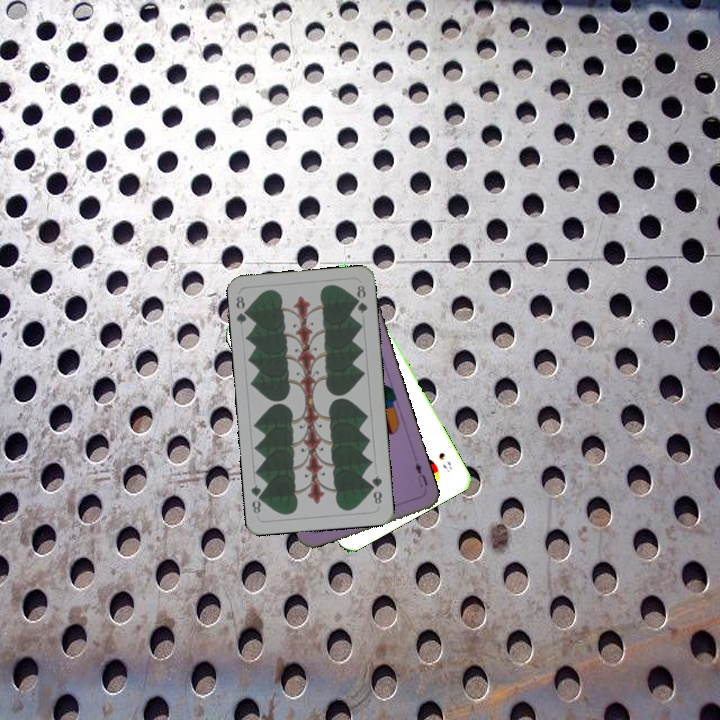EU: (411, 458, 430, 490)
G8: (232, 292, 252, 327), (367, 472, 385, 507)
S8: (434, 448, 455, 475)
